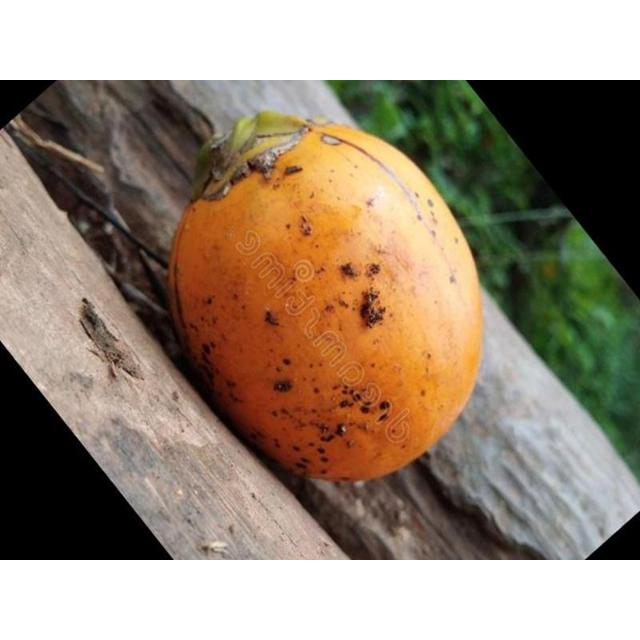good: (163, 110, 486, 485)
